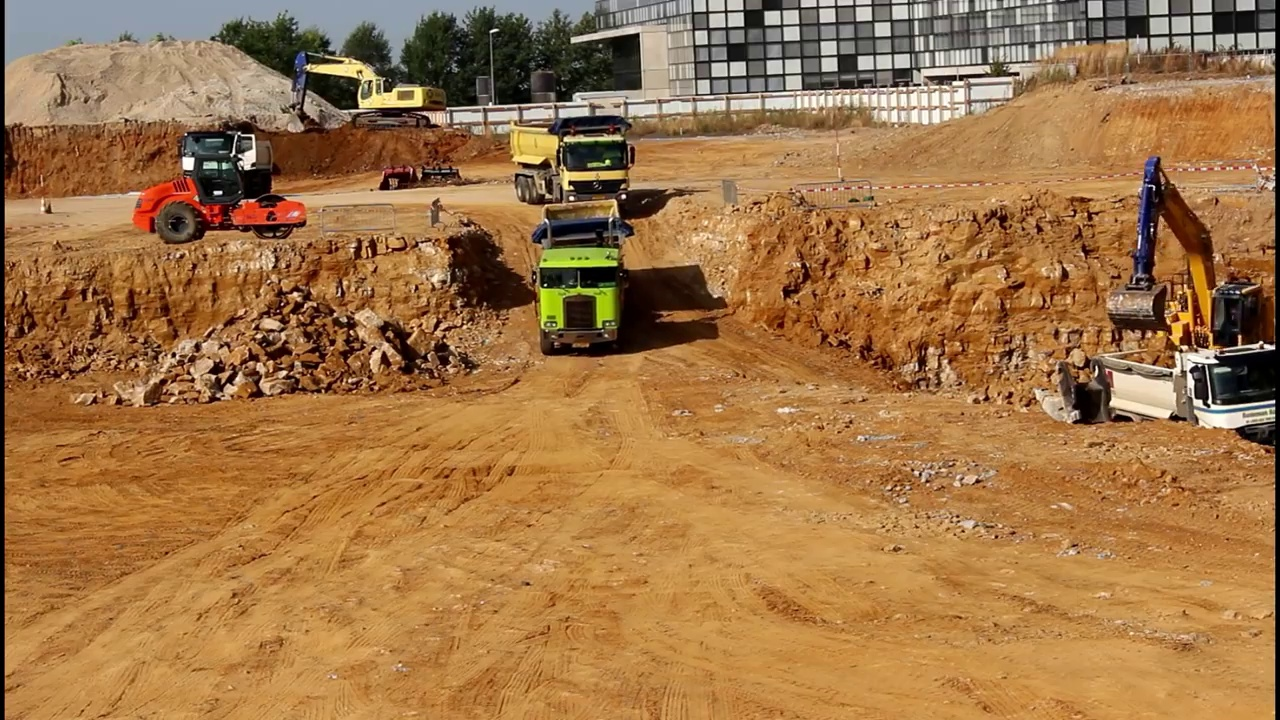compactor: (134, 154, 310, 243)
excavator: (1096, 150, 1280, 385), (278, 47, 450, 137)
truck: (1084, 330, 1280, 464), (529, 196, 631, 359), (503, 116, 638, 213), (177, 123, 279, 209)
